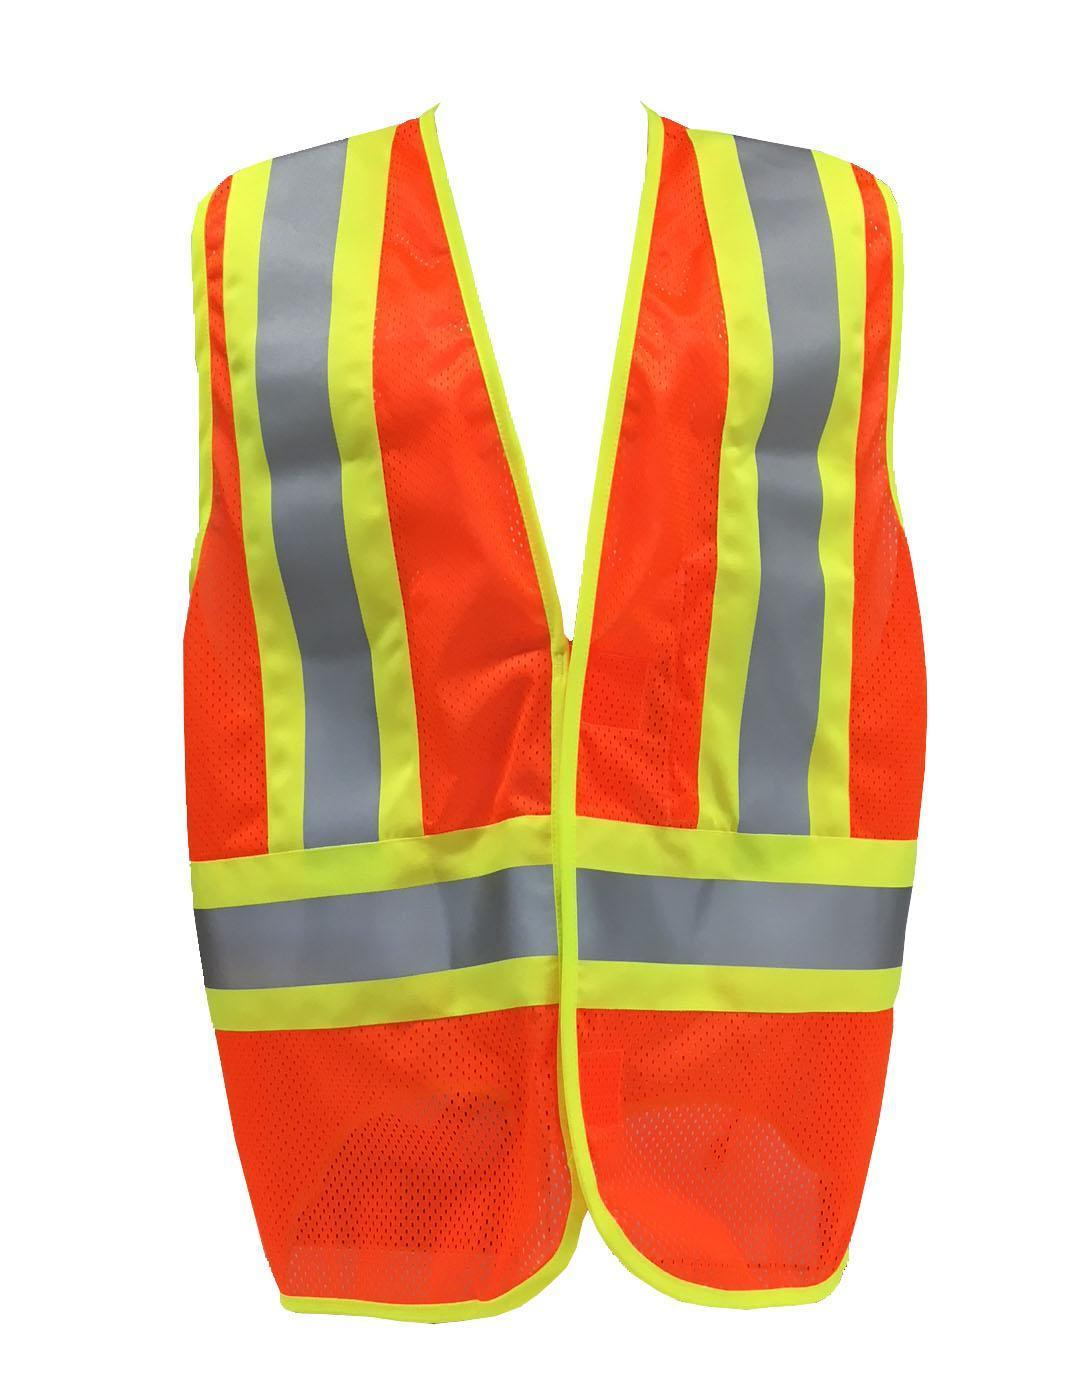vest: (179, 101, 930, 1326)
